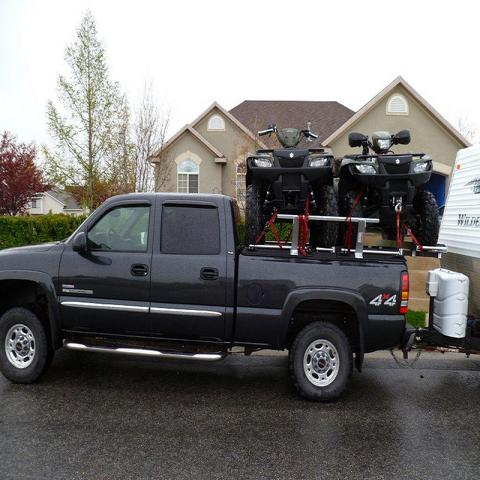truck: (0, 198, 413, 406)
